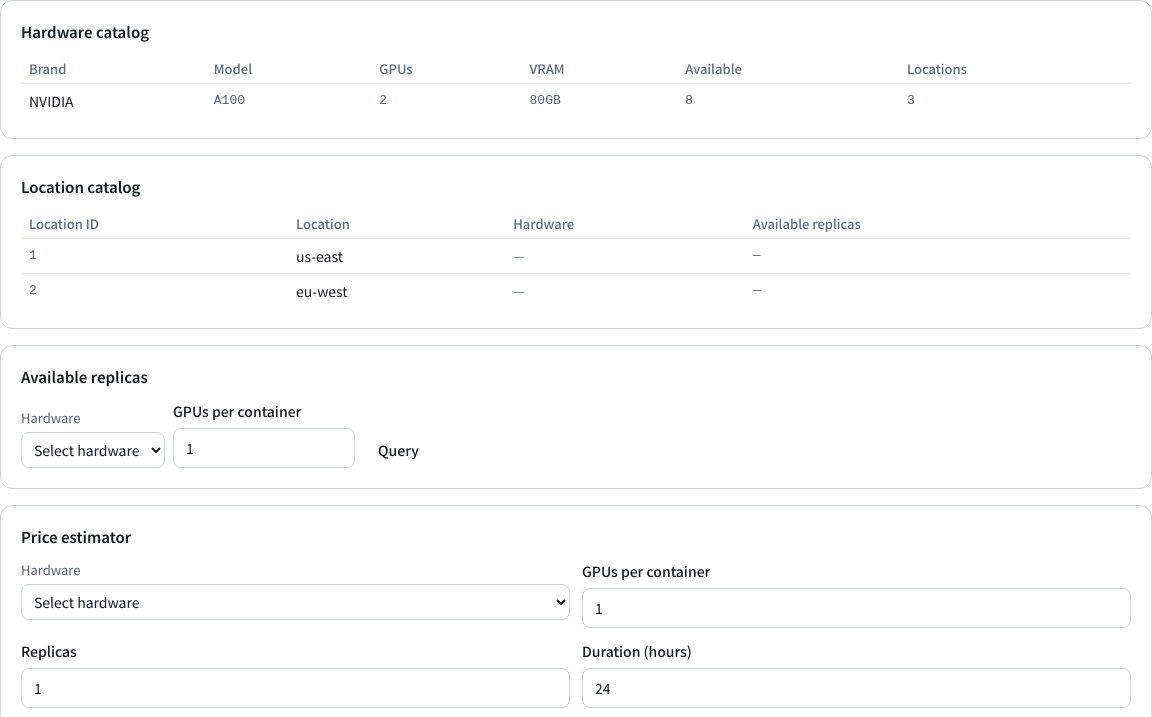
Test case: resources & pricing tab (F-08-53 / F-08-54) › queries available replicas for a hardware/GPU combination
Select "A100" in the 1st dropdown labelled "Hardware" at coordinates (93, 450), box [21, 432, 165, 468]
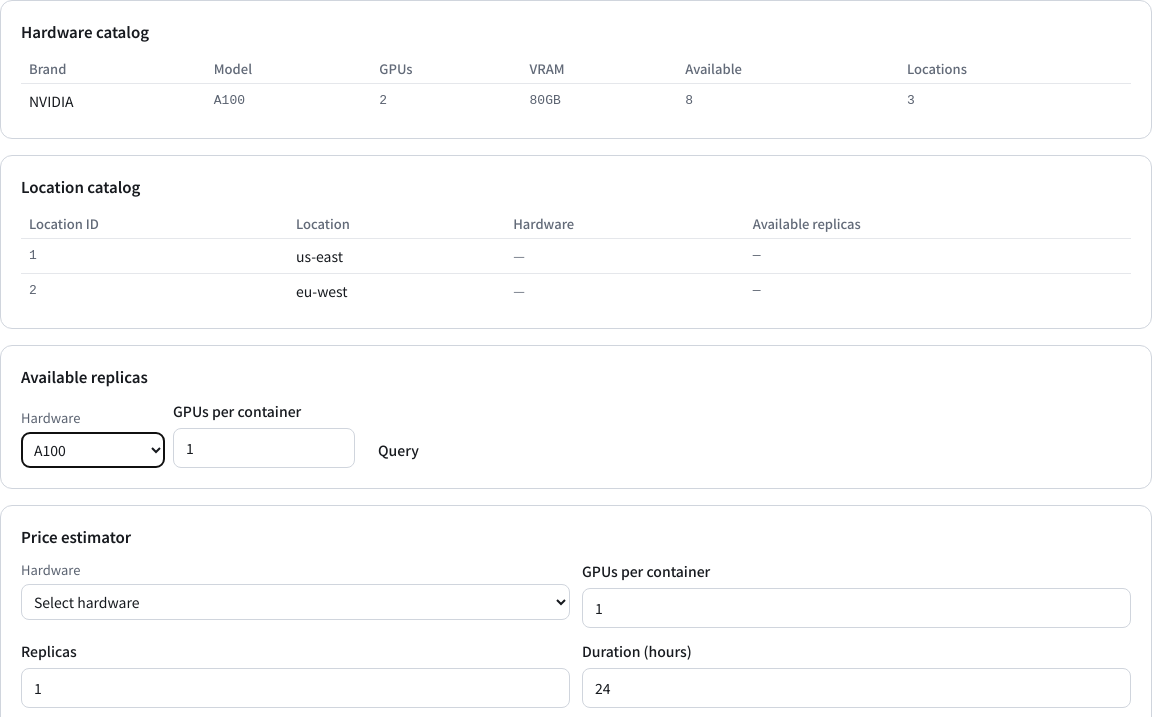
Click the button "Query" at coordinates (398, 450), box [363, 432, 434, 468]
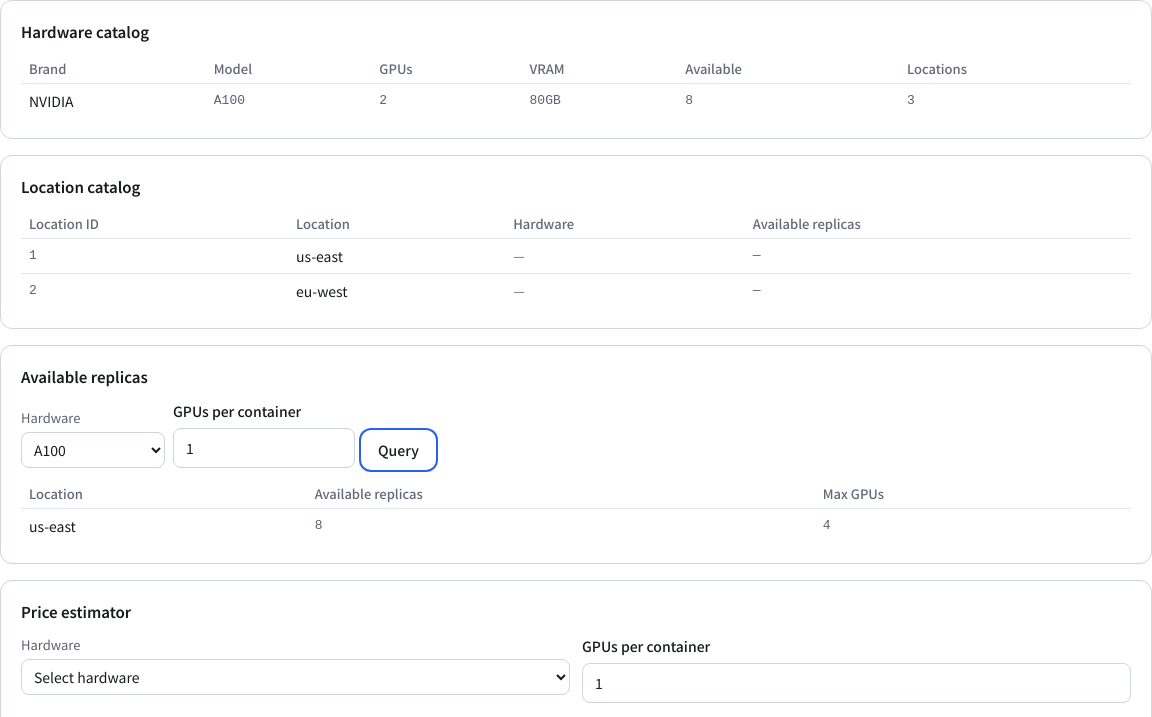
Now the table with test id "replica-result" shows "us-east", box [29, 516, 76, 536]
Now the table with test id "replica-result" shows "8", box [315, 518, 322, 533]
Now the table with test id "replica-result" shows "4", box [823, 518, 831, 533]
